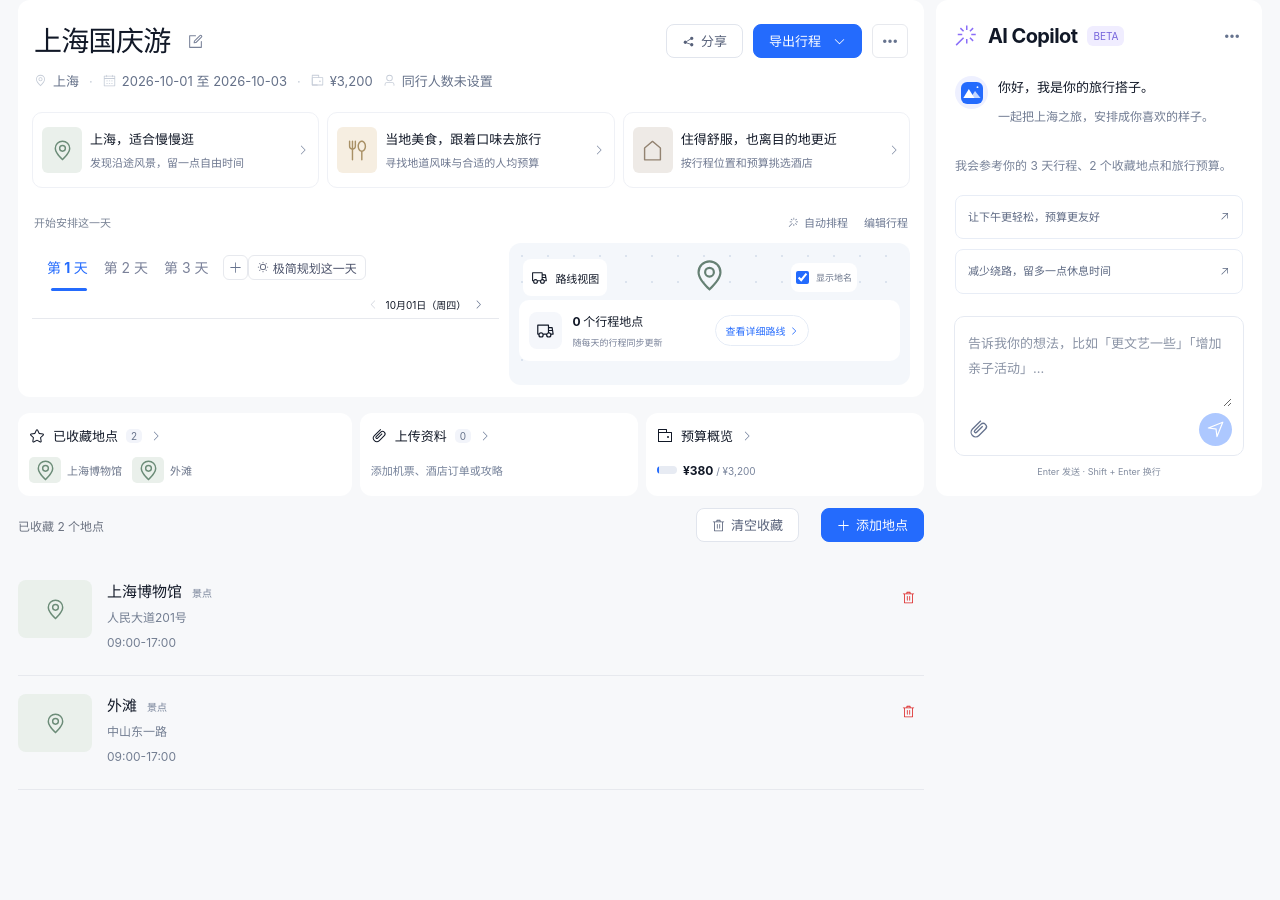
TripDetail › clears every saved place in one press so planning can start over
Click the button with aria-label "清空收藏地点" at (748, 525), box [696,508,799,542]
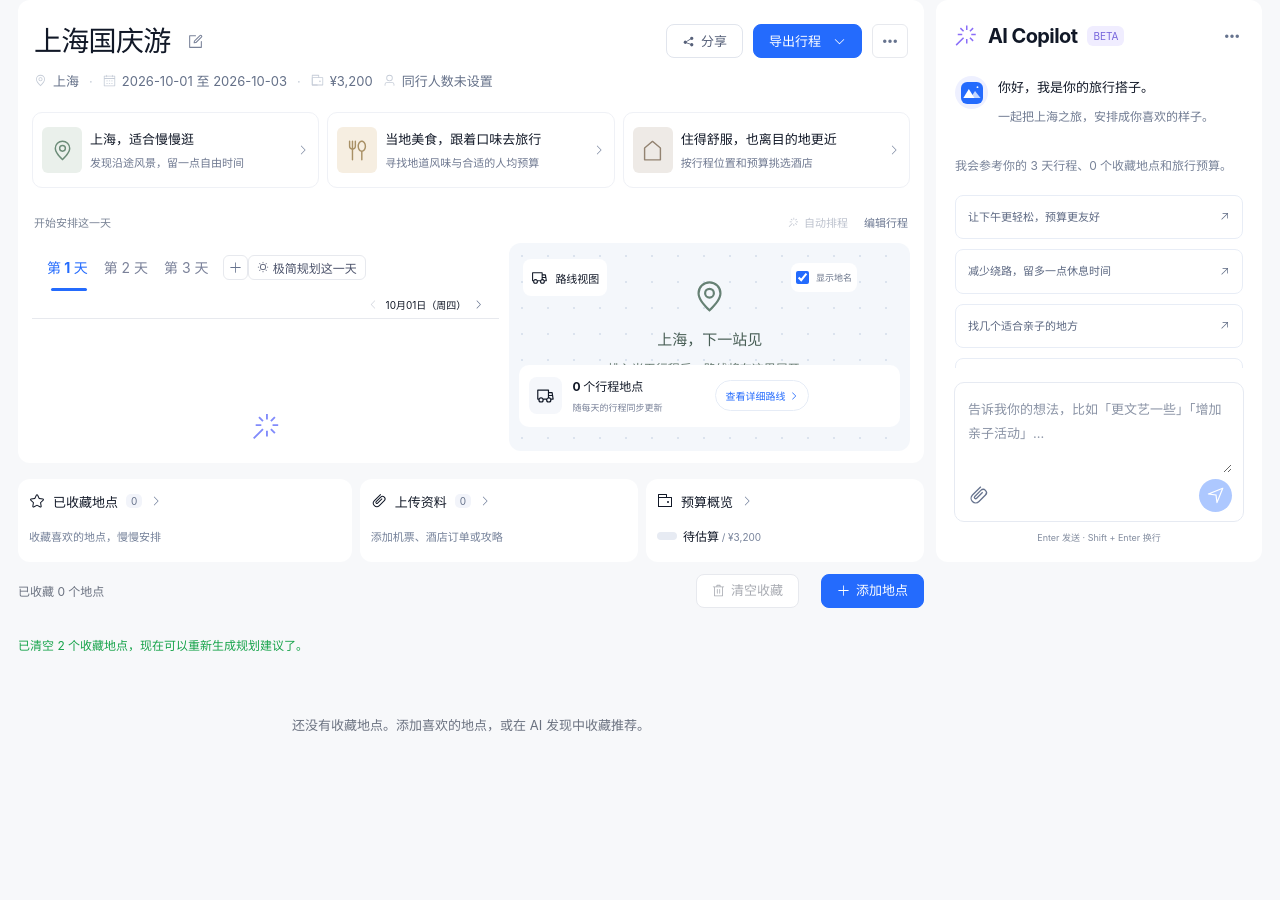
Expected: the text "上海博物馆" is gone
Expected: the text "已清空 2 个收藏地点" is shown, [18,638,308,653]
